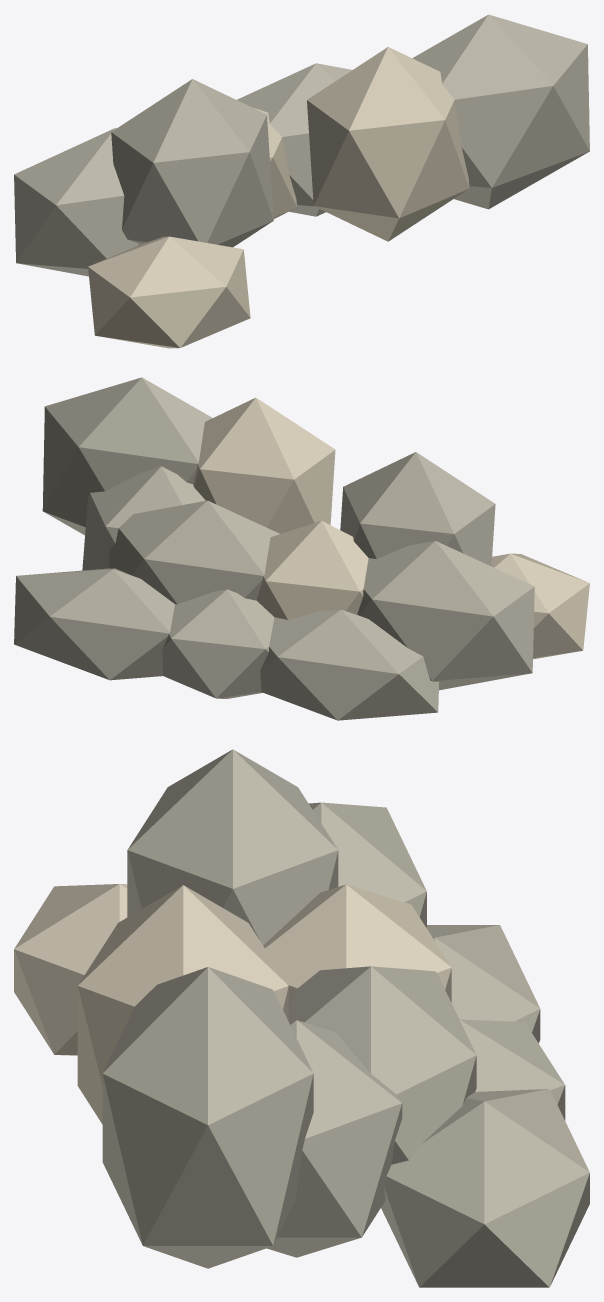
Rendered from SM_Ruin_RubbleCluster_01.fbx.
The picture shows the model from 3 angles, top to bottom: view 1: azimuth 30°, elevation 25°; view 2: azimuth 150°, elevation 25°; view 3: azimuth 270°, elevation 25°; orthographic projection. The views are drawn at different scales.
Parts seen in each view (by area): view 1: SM_Ruin_RubbleCluster_01; view 2: SM_Ruin_RubbleCluster_01; view 3: SM_Ruin_RubbleCluster_01.
Part boxes in pixels (box(x1,y1,x2,y2)): SM_Ruin_RubbleCluster_01: box(14, 14, 589, 348); SM_Ruin_RubbleCluster_01: box(14, 377, 589, 720); SM_Ruin_RubbleCluster_01: box(14, 749, 589, 1287).
Size of the model in its own units: 2.7 by 1.1 by 1.63.
